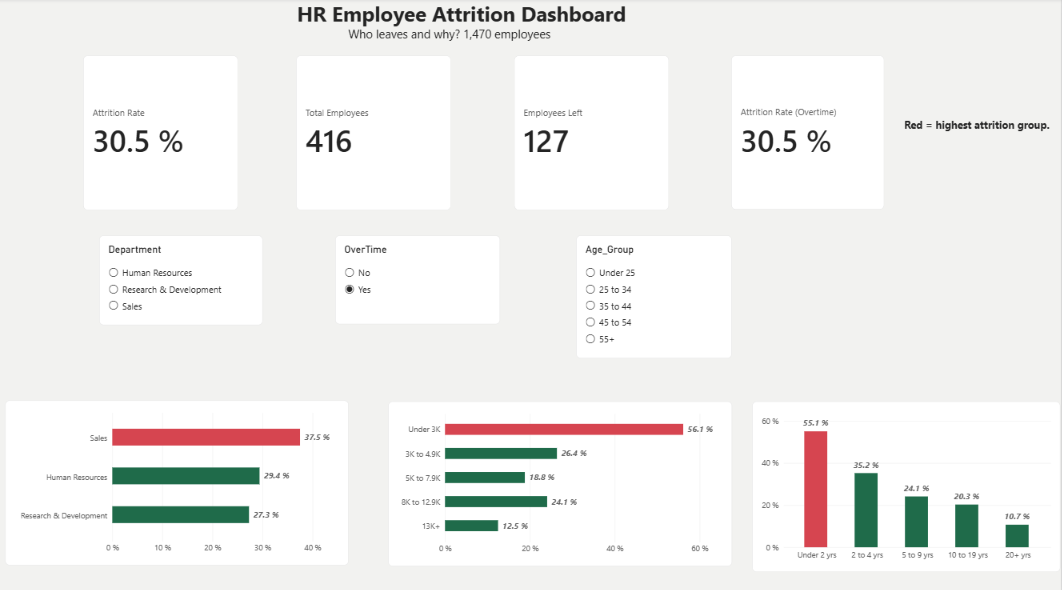

What the dashboard file says about the page in this screenshot:
{"tool":"powerbi","page":{"name":"Page ١","canvas":[1920,1080],"ordinal":0},"visuals":[{"type":"cardVisual","fields":{"Data":["tblClean.Attrition Rate"]},"box":[152.3,102.9,280,280],"z":0},{"type":"cardVisual","fields":{"Data":["CountNonNull(tblClean.Attrition)"]},"box":[537.2,102.9,280,280],"z":1000},{"type":"cardVisual","fields":{"Data":["CountNonNull(tblClean.Attrition)"]},"box":[932.4,102.9,280,280],"z":2000},{"type":"clusteredBarChart","fields":{"Category":["tblClean.Department"],"Y":["tblClean.Attrition Rate"]},"box":[10.4,727.4,621.6,298.5],"z":3000},{"type":"clusteredBarChart","fields":{"Category":["tblClean.Income_Group"],"Y":["tblClean.Attrition Rate"]},"box":[704.6,729.5,622,298],"z":4000},{"type":"clusteredColumnChart","fields":{"Category":["tblClean.Tenure_Group"],"Y":["tblClean.Attrition Rate"]},"box":[1363.4,729.5,557.8,308.7],"z":5000},{"type":"listSlicer","fields":{"Values":["tblClean.Department"]},"box":[181.1,428.1,296.4,162.6],"z":6000},{"type":"listSlicer","fields":{"Values":["tblClean.Age_Group"]},"box":[1043.6,428.1,282,222.3],"z":7000},{"type":"listSlicer","fields":{"Values":["tblClean.OverTime"]},"box":[607.2,428.1,298.5,160.5],"z":8000},{"type":"textbox","box":[461.1,2.1,750.3,66.5],"z":9000},{"type":"textbox","box":[631.9,49.4,438.4,35],"z":10000},{"type":"cardVisual","fields":{"Data":["tblClean.Overtime Attrition Rate"]},"box":[1325.6,102.9,277.9,279.9],"z":10001},{"type":"textbox","box":[1638.4,216.1,282,28.8],"z":10002}]}

Visuals, with their boxes in screenshot pixels (x1, y1, x2, y2), scaled from the page's 1920x1080 canvas onto the 1062x590 screenshot:
cardVisual - tblClean.Attrition Rate: bbox=[84, 56, 239, 209]
cardVisual - CountNonNull(tblClean.Attrition): bbox=[297, 56, 452, 209]
cardVisual - CountNonNull(tblClean.Attrition): bbox=[516, 56, 671, 209]
clusteredBarChart - tblClean.Department x tblClean.Attrition Rate: bbox=[6, 397, 350, 560]
clusteredBarChart - tblClean.Income_Group x tblClean.Attrition Rate: bbox=[390, 399, 734, 561]
clusteredColumnChart - tblClean.Tenure_Group x tblClean.Attrition Rate: bbox=[754, 399, 1061, 567]
listSlicer - tblClean.Department: bbox=[100, 234, 264, 323]
listSlicer - tblClean.Age_Group: bbox=[577, 234, 733, 355]
listSlicer - tblClean.OverTime: bbox=[336, 234, 501, 322]
textbox: bbox=[255, 1, 670, 37]
textbox: bbox=[350, 27, 592, 46]
cardVisual - tblClean.Overtime Attrition Rate: bbox=[733, 56, 887, 209]
textbox: bbox=[906, 118, 1061, 134]
